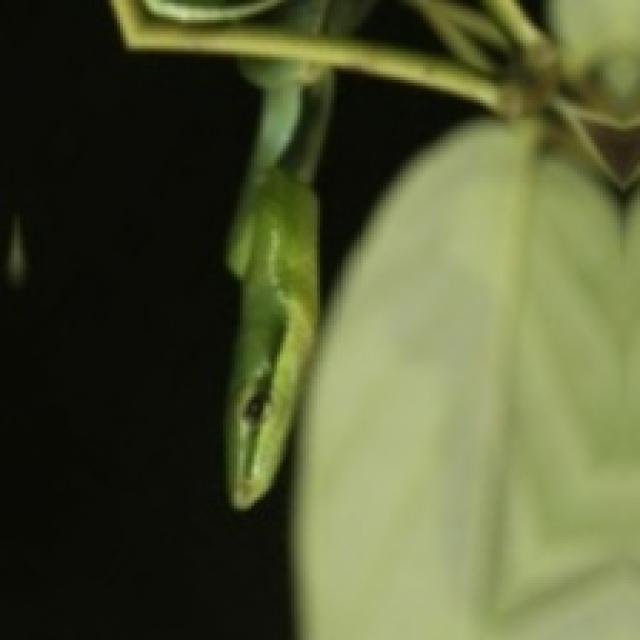red-tailed green ratsnake: (228, 60, 335, 508), (279, 0, 372, 34)
